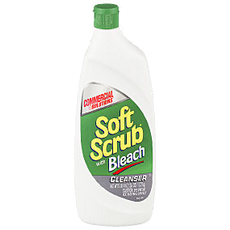grozi_84: (74, 0, 156, 226)
